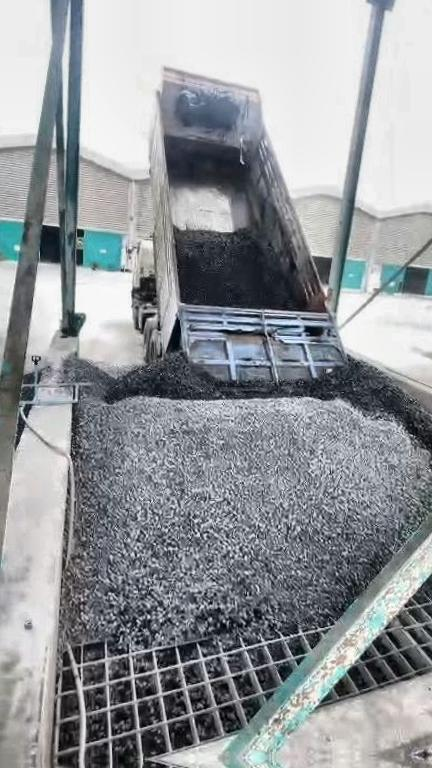gravel: (56, 350, 432, 644), (176, 229, 300, 309)
sand: (409, 344, 432, 399)
